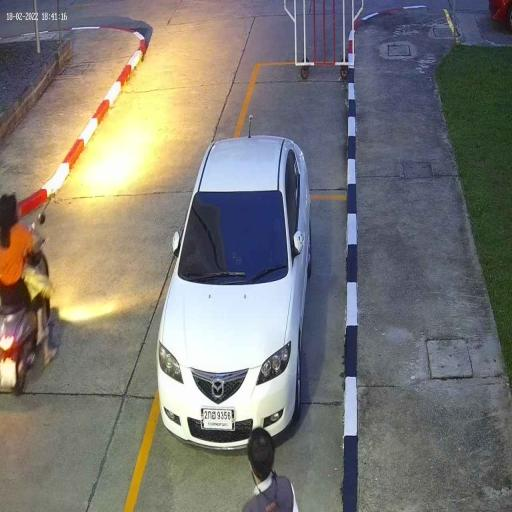car: (156, 132, 314, 456)
motorcycle: (0, 226, 60, 401)
